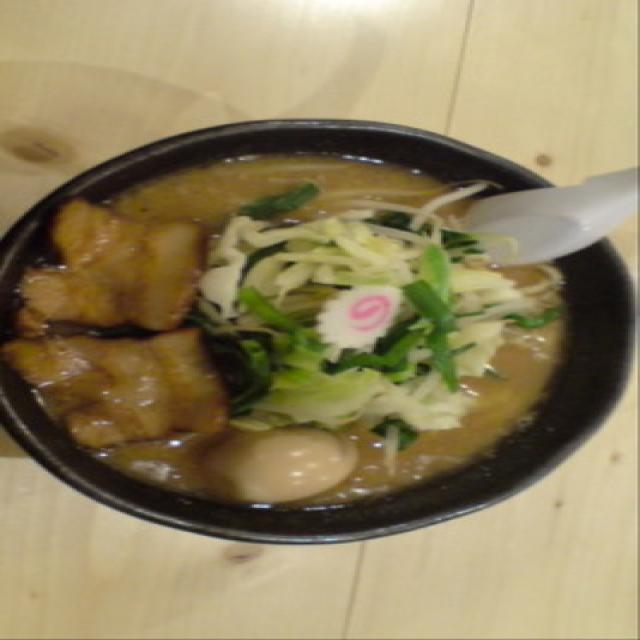面条主食: (0, 97, 640, 556)
